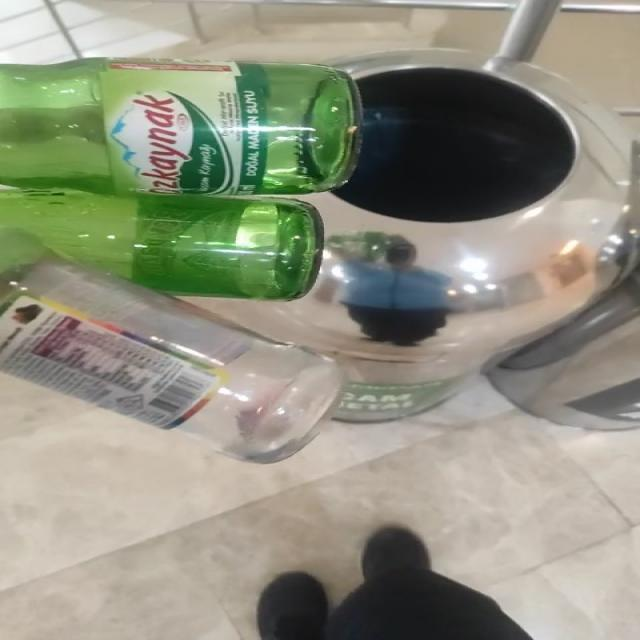glass: (0, 57, 360, 464)
